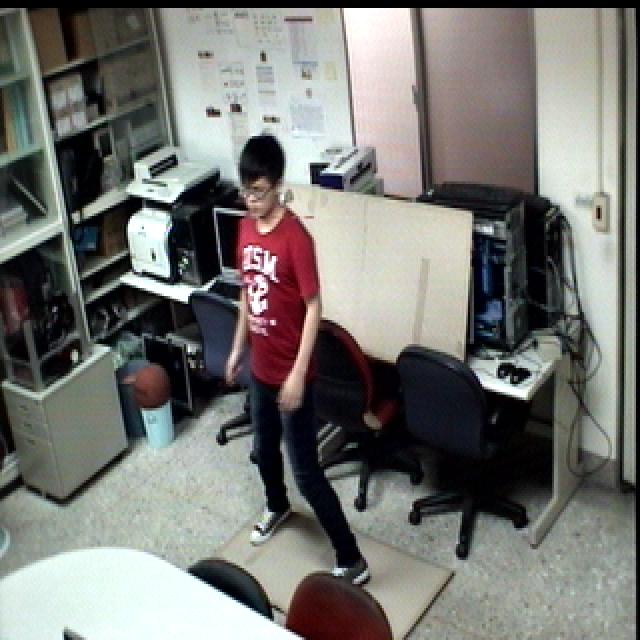stand: (212, 124, 379, 610)
